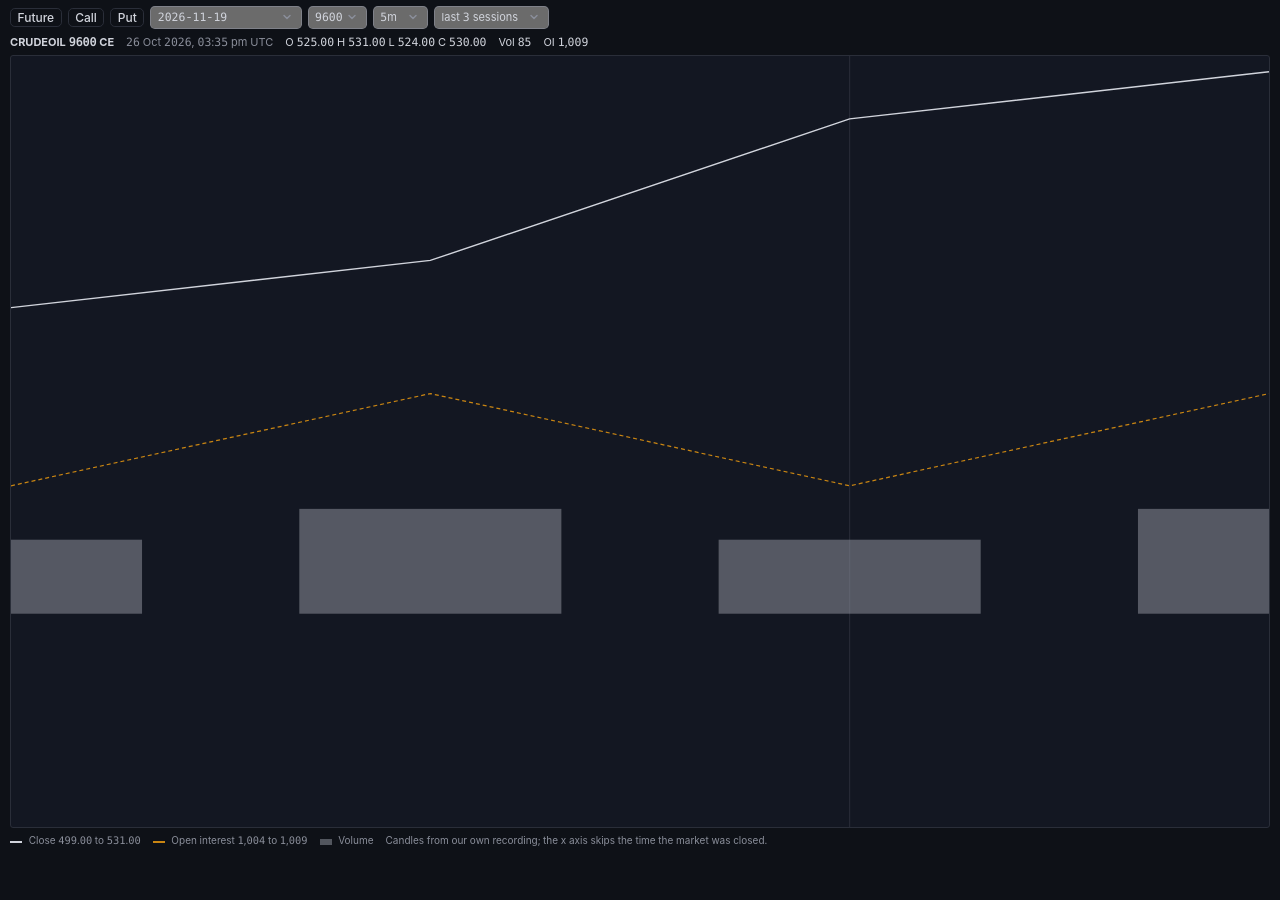
Test: choosing the future drops the strike list and loads that contract
Click the button "Future" at coordinates (36, 17), box x1=10 y1=8 x2=62 y2=27
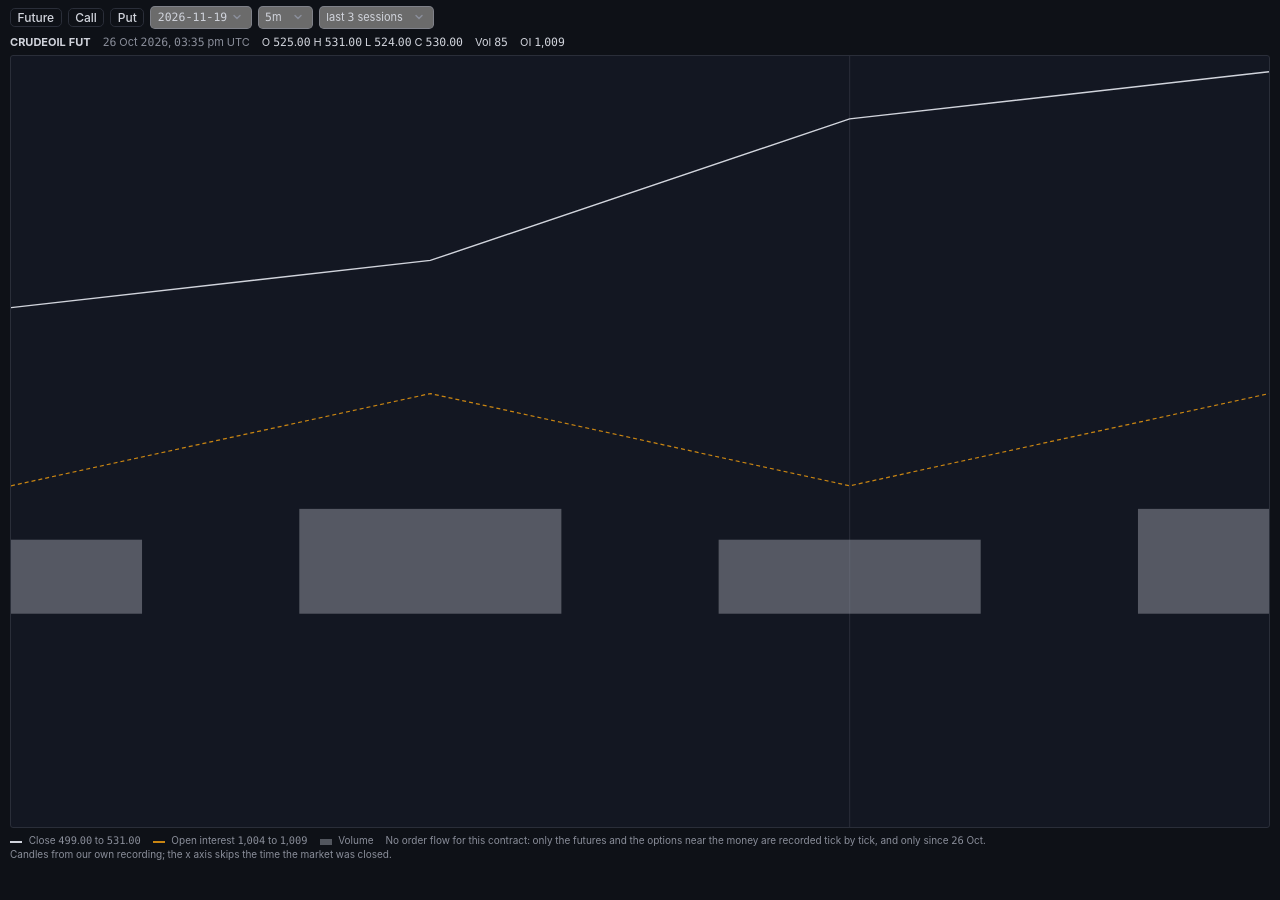
Expected: the dropdown labelled "Strike" is gone
